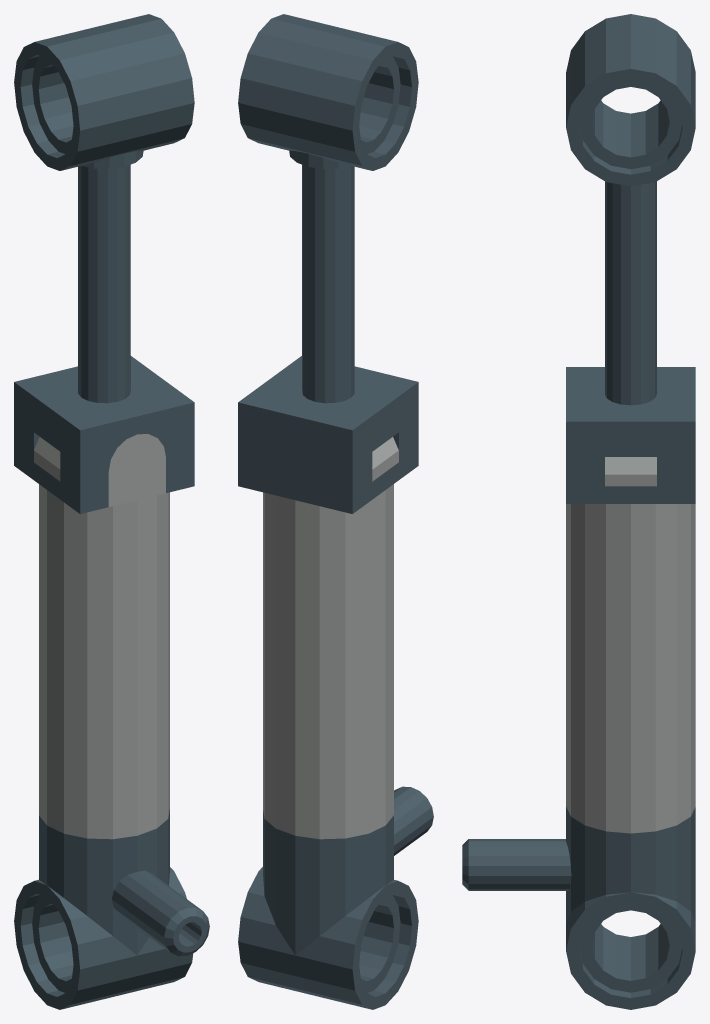
3 views of the same model, side by side, from view 1: azimuth 30°, elevation 25°; view 2: azimuth 150°, elevation 25°; view 3: azimuth 270°, elevation 25° (orthographic).
Parts seen in each view (by area): view 1: world; view 2: world; view 3: world.
Boxes of the visible parts, x1,y1,x2,y2 form: world: (14, 14, 209, 1009); world: (238, 14, 433, 1009); world: (462, 14, 695, 1009).
Size of the model in its own units: 0.008 by 0.064 by 0.0144.
